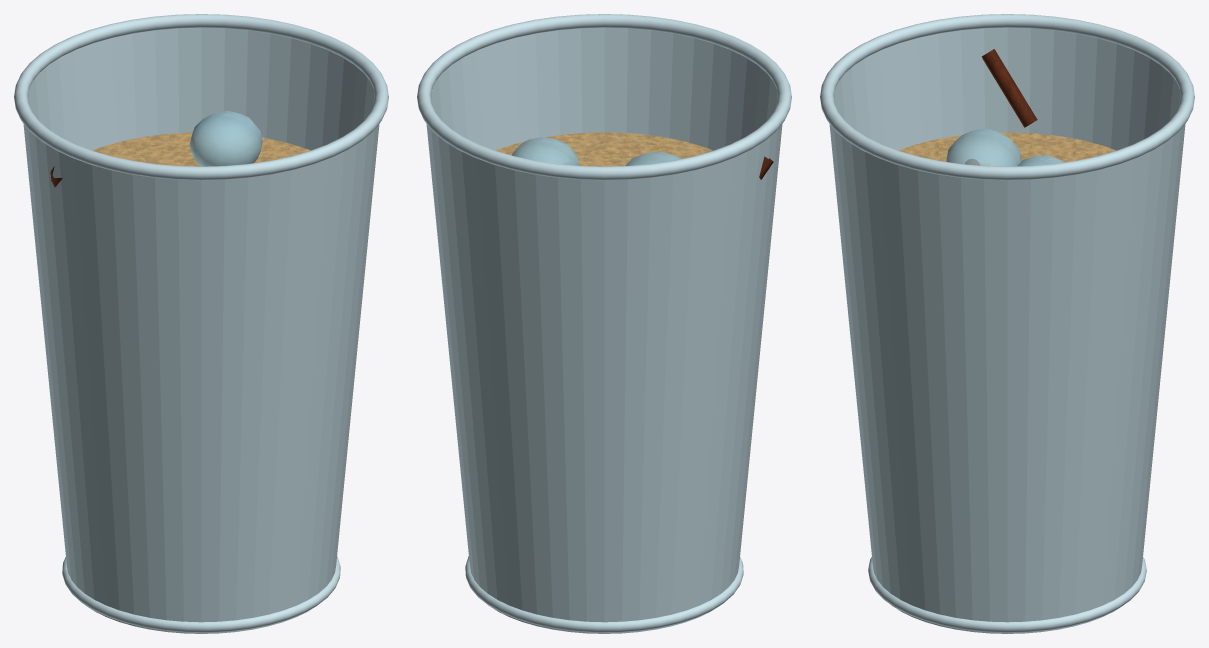
File: avena-colombiana.glb
3 views of the same model, side by side, from view 1: azimuth 30°, elevation 25°; view 2: azimuth 150°, elevation 25°; view 3: azimuth 270°, elevation 25° (orthographic).
Visible parts, largest first — view 1: glass, ice, avena; view 2: glass, avena, ice; view 3: glass, avena, ice, cinnamon.
Part boxes in pixels (left/top/right/bottom): glass: left=14, top=14, right=388, bottom=633; ice: left=189, top=111, right=262, bottom=166; avena: left=92, top=132, right=310, bottom=166; glass: left=417, top=14, right=791, bottom=633; avena: left=495, top=132, right=713, bottom=166; ice: left=512, top=137, right=681, bottom=165; glass: left=820, top=14, right=1194, bottom=633; avena: left=898, top=132, right=1116, bottom=165; ice: left=946, top=128, right=1064, bottom=166; cinnamon: left=965, top=49, right=1037, bottom=165.
Bounding box in the file's own units: 0.191 × 0.2735 × 0.191.
Materials: 4 (4 with a texture image).
